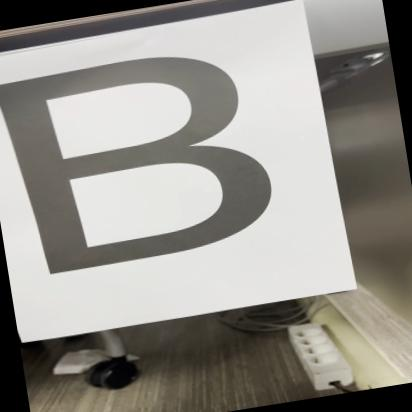seat: (0, 30, 304, 295)
